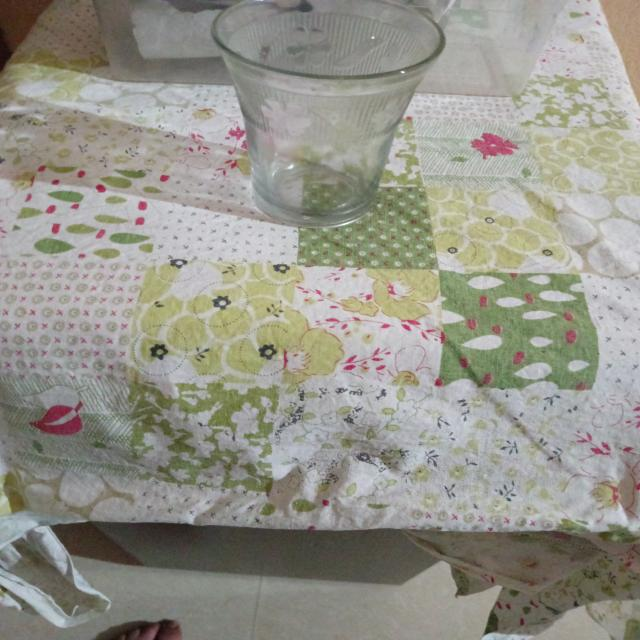Glass: (207, 0, 450, 231)
